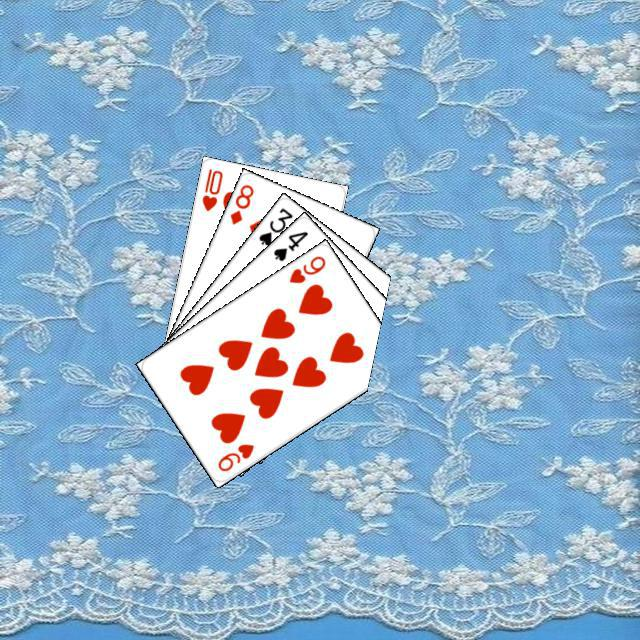10h: (197, 163, 224, 213)
3s: (254, 203, 294, 248)
4s: (268, 226, 310, 263)
8d: (225, 179, 255, 226)
9h: (212, 439, 256, 473), (284, 251, 327, 285)
